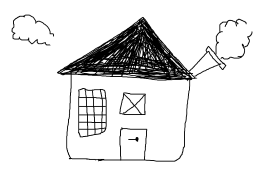closed_window: (74, 84, 113, 138), (117, 88, 150, 117)
clouds: (8, 9, 59, 53)
door: (114, 122, 153, 163)
shaded_roof: (55, 12, 206, 85)
smoking_chimney: (177, 15, 258, 78)
wall: (59, 72, 192, 167)
